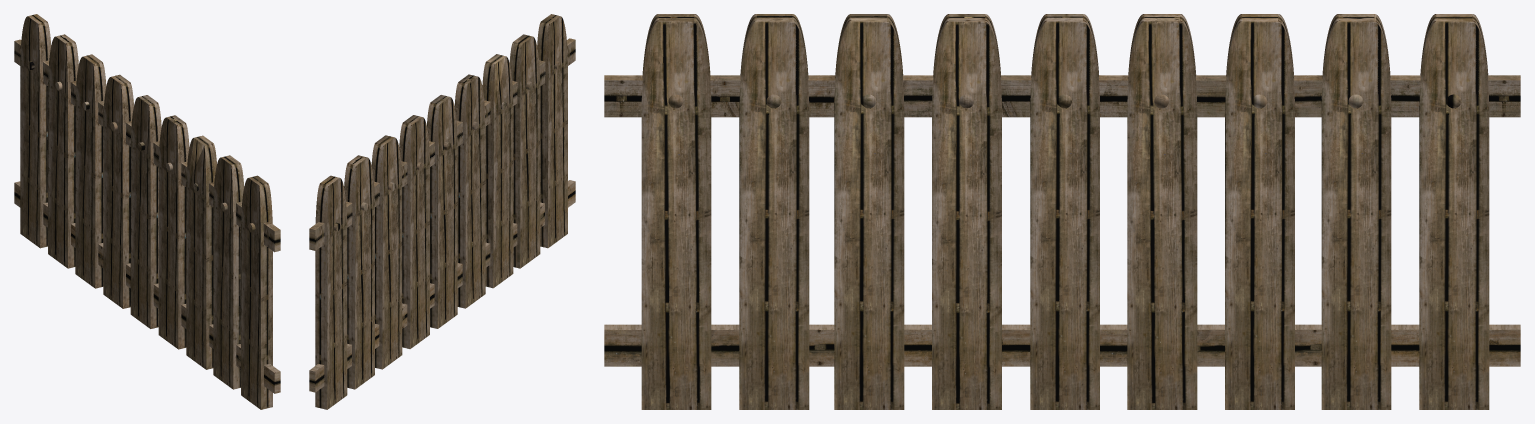
The model's file is Valla.fbx.
3 views of the same model, side by side, from view 1: azimuth 30°, elevation 25°; view 2: azimuth 150°, elevation 25°; view 3: azimuth 270°, elevation 25° (orthographic). The views are drawn at different scales.
Visible parts, largest first — view 1: Cube.010; view 2: Cube.010; view 3: Cube.010.
Part boxes in pixels (<box>): Cube.010: <box>14,14,280,409</box>; Cube.010: <box>309,14,575,409</box>; Cube.010: <box>604,14,1520,409</box>.
Size of the model in its own units: 13.56 by 210 by 450.
